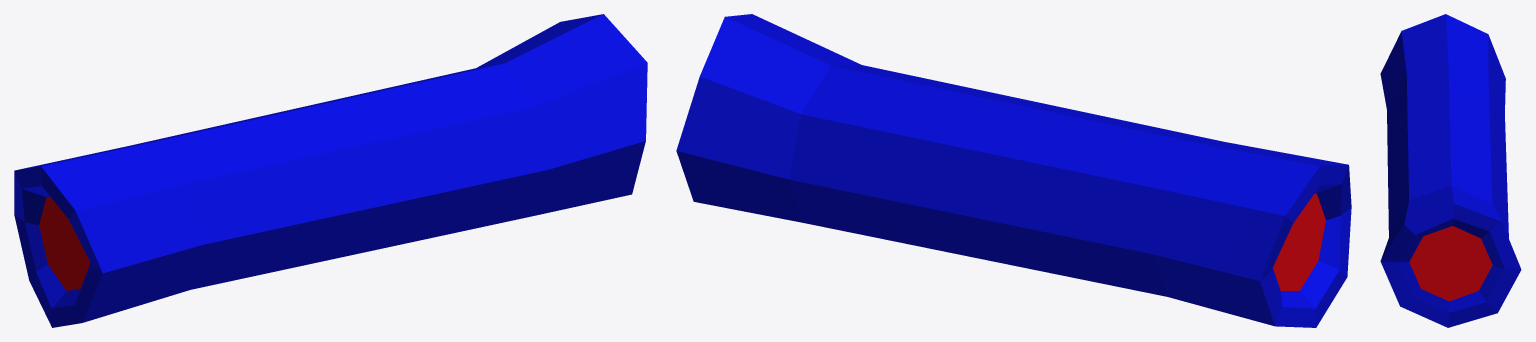
The model's file is SM_Short_Log3.fbx.
3 renders of one model, left to right at view 1: azimuth 30°, elevation 25°; view 2: azimuth 150°, elevation 25°; view 3: azimuth 270°, elevation 25°, orthographic. The views are drawn at different scales.
Parts seen in each view (by area): view 1: SM_Short_Log3; view 2: SM_Short_Log3; view 3: SM_Short_Log3.
Boxes of the visible parts, bbox=[...] form: SM_Short_Log3: bbox=[14, 14, 647, 327]; SM_Short_Log3: bbox=[676, 14, 1351, 327]; SM_Short_Log3: bbox=[1380, 14, 1521, 327].
Size of the model in its own units: 77.47 by 23.17 by 23.17.
